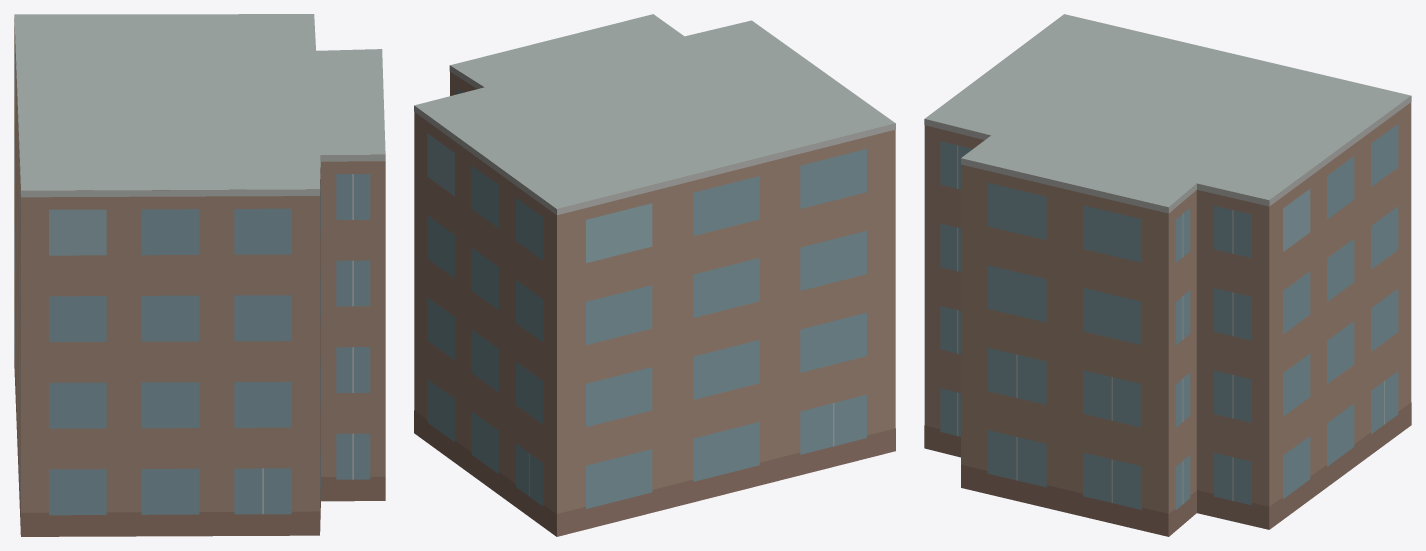
File: survey-upis-32883258.glb
3 views of the same model, side by side, from view 1: azimuth 30°, elevation 25°; view 2: azimuth 150°, elevation 25°; view 3: azimuth 270°, elevation 25° (orthographic). The views are drawn at different scales.
Visible parts, largest first — view 1: survey-upis-32883258.tmp; view 2: survey-upis-32883258.tmp; view 3: survey-upis-32883258.tmp.
Boxes of the visible parts, x1=… form: survey-upis-32883258.tmp: x1=14, y1=14, x2=385, y2=536; survey-upis-32883258.tmp: x1=414, y1=14, x2=895, y2=536; survey-upis-32883258.tmp: x1=924, y1=14, x2=1411, y2=536.
Size of the model in its own units: 16.11 by 12.8 by 17.15.
